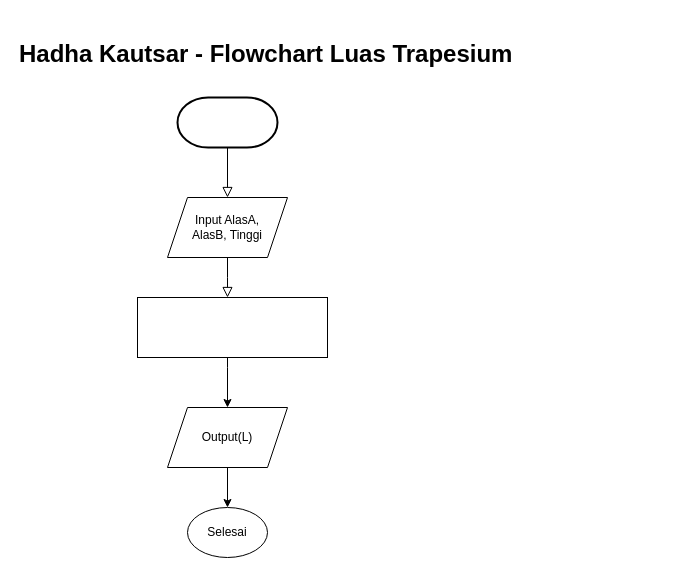
Image size: 694x575. Some labels were removed from this diagram. Each missing label, with the box of its shape:
L = 1/2 x (AlasA+AlasB) x Tinggi: (136, 296, 328, 358)
Mulai: (176, 96, 278, 148)
